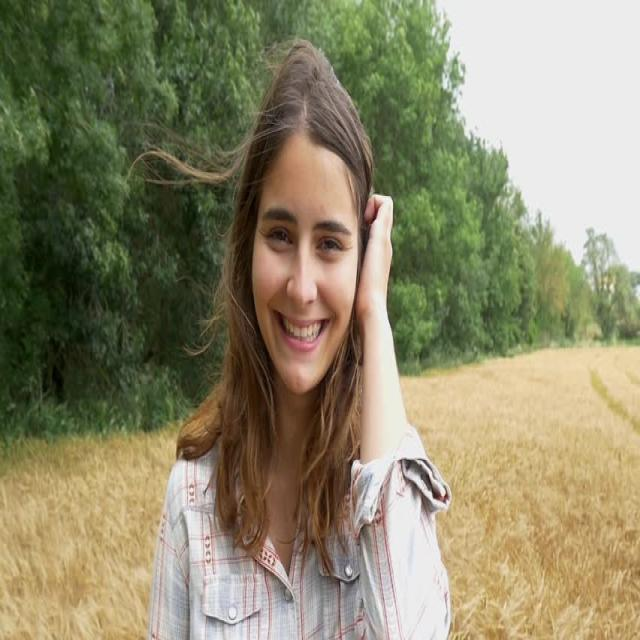mobile_phonerotation: (128, 36, 453, 637)
